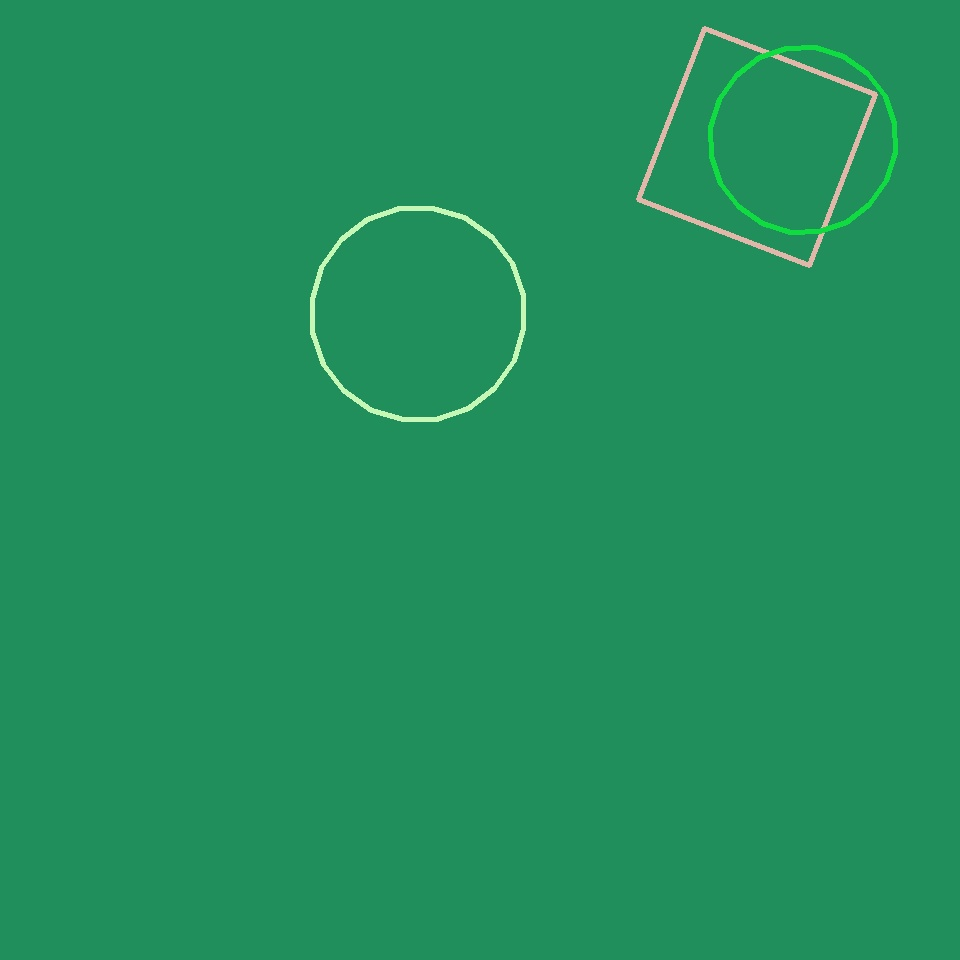square: (638, 29, 876, 266)
triangle: (313, 208, 524, 420), (710, 48, 895, 232)
